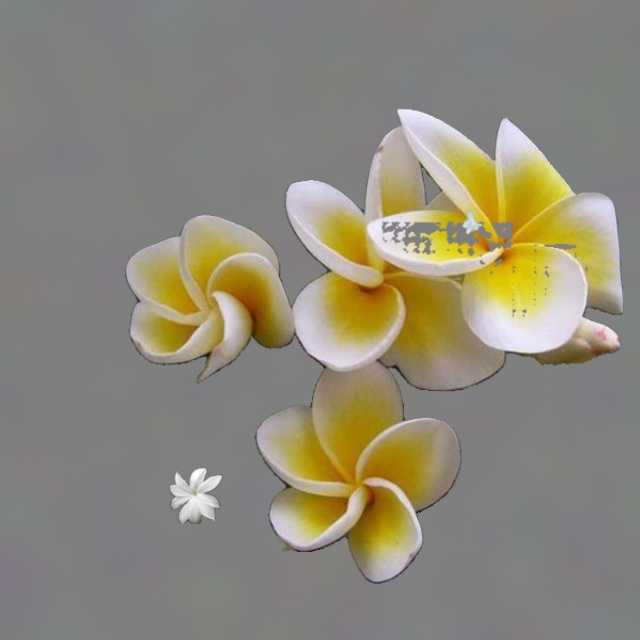frangipani: (125, 109, 623, 582)
jasmine: (169, 468, 221, 523), (462, 210, 481, 233)
